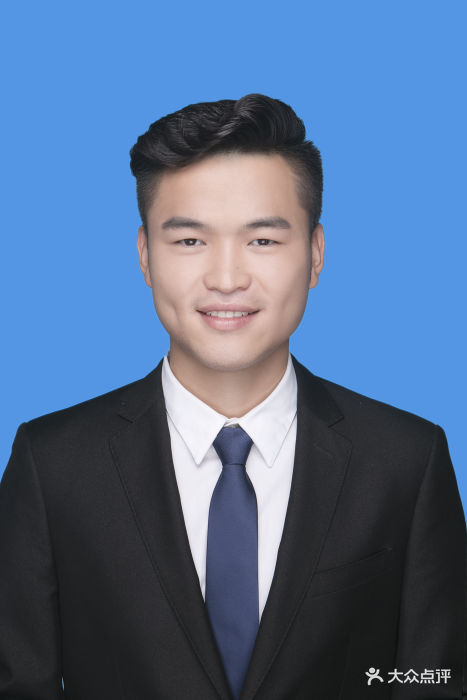unmask: (150, 182, 310, 360)
